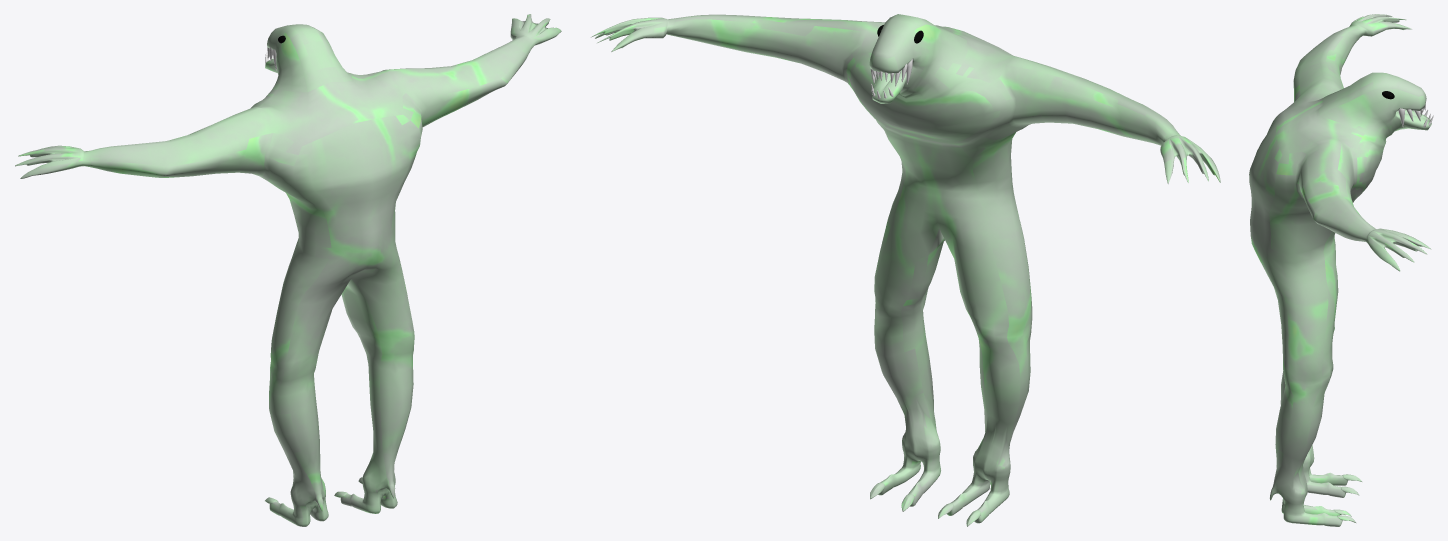
File: Berserkeraranar.0004.obj
The picture shows the model from 3 angles, left to right: view 1: azimuth 30°, elevation 25°; view 2: azimuth 150°, elevation 25°; view 3: azimuth 270°, elevation 25°; orthographic projection. The views are drawn at different scales.
Visible parts, largest first — view 1: polySurface27; view 2: polySurface27; view 3: polySurface27.
Boxes of the visible parts, box(x1,y1,x2,y2) form: polySurface27: box(15, 14, 561, 526); polySurface27: box(591, 14, 1220, 526); polySurface27: box(1249, 14, 1433, 526).
Size of the model in its own units: 30.15 by 24.1 by 9.27.
1 material, 1 textured.
